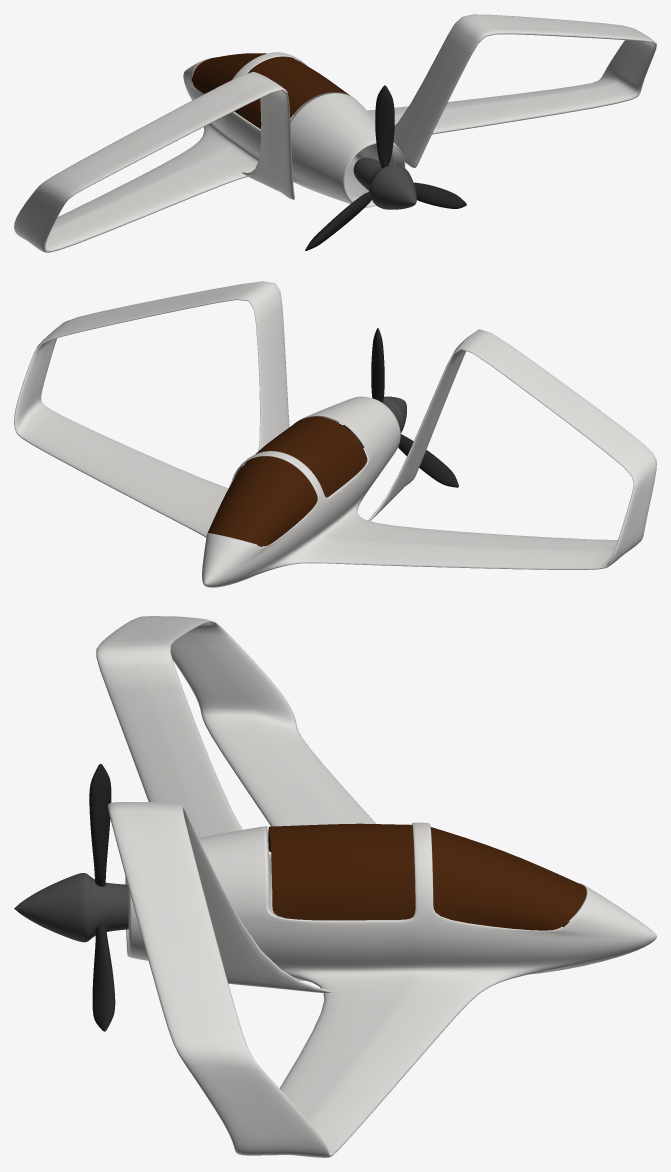
File: synergy_full.opt.glb
3 views of the same model, one above another, from view 1: azimuth 30°, elevation 25°; view 2: azimuth 150°, elevation 25°; view 3: azimuth 270°, elevation 25° (orthographic). The views are drawn at different scales.
Visible parts, largest first — view 1: Cylinder.006, Cylinder.010, Cone.001, Cylinder.011, Cylinder.009, Cylinder.008, Cylinder.007; view 2: Cylinder.006, Cylinder.011, Cylinder.010, Cylinder.008, Cylinder.009, Cone.001; view 3: Cylinder.006, Cylinder.010, Cylinder.011, Cone.001, Cylinder.009, Cylinder.007.
Part boxes in pixels (<box>): Cylinder.006: <box>14,14,656,252</box>; Cylinder.010: <box>234,57,349,128</box>; Cone.001: <box>353,157,416,209</box>; Cylinder.011: <box>192,53,293,93</box>; Cylinder.009: <box>375,85,394,167</box>; Cylinder.008: <box>305,191,371,250</box>; Cylinder.007: <box>414,182,466,208</box>; Cylinder.006: <box>14,281,656,587</box>; Cylinder.011: <box>207,456,317,546</box>; Cylinder.010: <box>245,416,367,497</box>; Cylinder.008: <box>398,434,458,487</box>; Cylinder.009: <box>371,328,384,402</box>; Cone.001: <box>350,396,406,447</box>; Cylinder.006: <box>96,616,656,1157</box>; Cylinder.010: <box>268,823,415,920</box>; Cylinder.011: <box>430,827,586,930</box>; Cone.001: <box>14,873,128,942</box>; Cylinder.009: <box>89,763,111,886</box>; Cylinder.007: <box>92,924,115,1031</box>.
Bounding box in the file's own units: 4.27 × 1.13 × 2.64.
